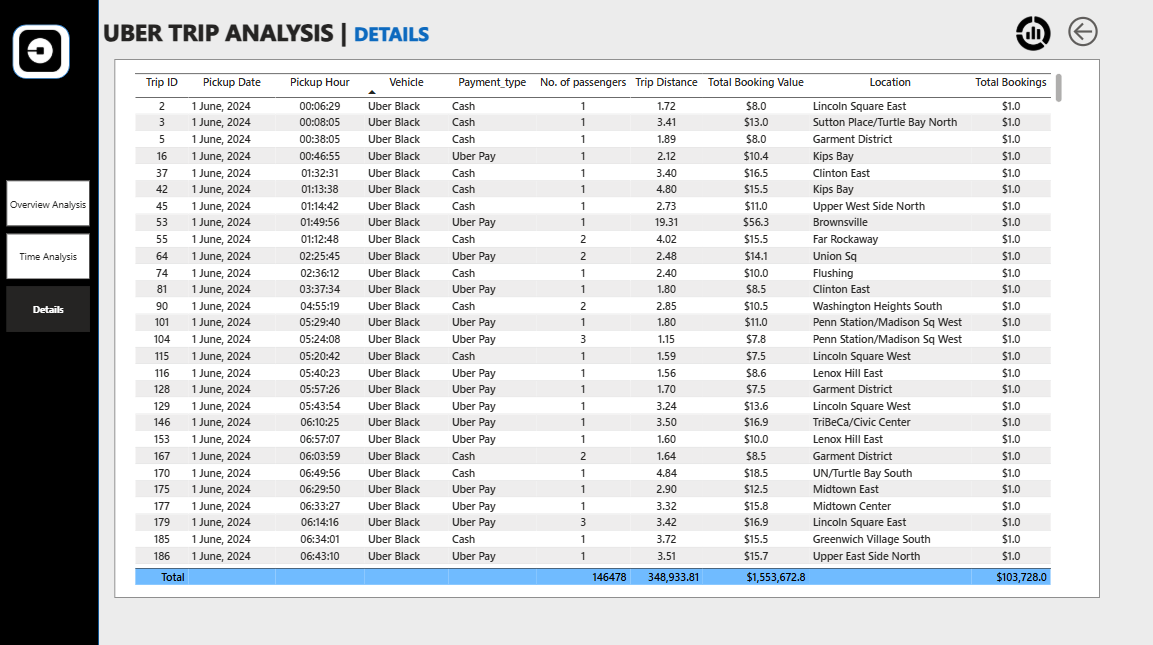

What the dashboard file says about the page in this screenshot:
{"tool":"powerbi","page":{"name":"Details","canvas":[1600,900],"ordinal":2},"visuals":[{"type":"shape","box":[0,0,142,900],"z":0},{"type":"textbox","box":[142.5,22.5,640,52.5],"z":1000},{"type":"shape","box":[164,88,1360,744],"z":2000},{"type":"tableEx","fields":{"Values":["Trip Details.Trip ID","Trip Details.Pickup Date","Trip Details.Pickup Hour (HH MM SS)","Trip Details.Vehicle","Trip Details.Payment_type","Sum(Trip Details.passenger_count)","Trip Details.Trip Distance","Trip Details.Total Booking Value","Location Table.Location","Trip Details.Total Bookings"]},"box":[186,102,1290,716],"z":3000},{"type":"actionButton","box":[1475,22.5,125,52.5],"z":4000},{"type":"image","box":[1340,22.5,185,57.5],"z":5000},{"type":"shape","box":[22.5,40,79,75],"z":6000},{"type":"image","box":[18.6,41.4,84.9,68.3],"z":7000},{"type":"pageNavigator","box":[15,255,115,210],"z":8000}]}

Visuals, with their boxes on the page's 1600x900 design canvas (x1, y1, x2, y2). These are canvas units, not pixel positions in the 1153x645 screenshot, which may show the page scaled, cropped or inside an application window:
shape: (0,0,142,900)
textbox: (142,22,782,75)
shape: (164,88,1524,832)
tableEx - Trip Details.Trip ID x Trip Details.Pickup Date: (186,102,1476,818)
actionButton: (1475,22,1600,75)
image: (1340,22,1525,80)
shape: (22,40,102,115)
image: (19,41,104,110)
pageNavigator: (15,255,130,465)
